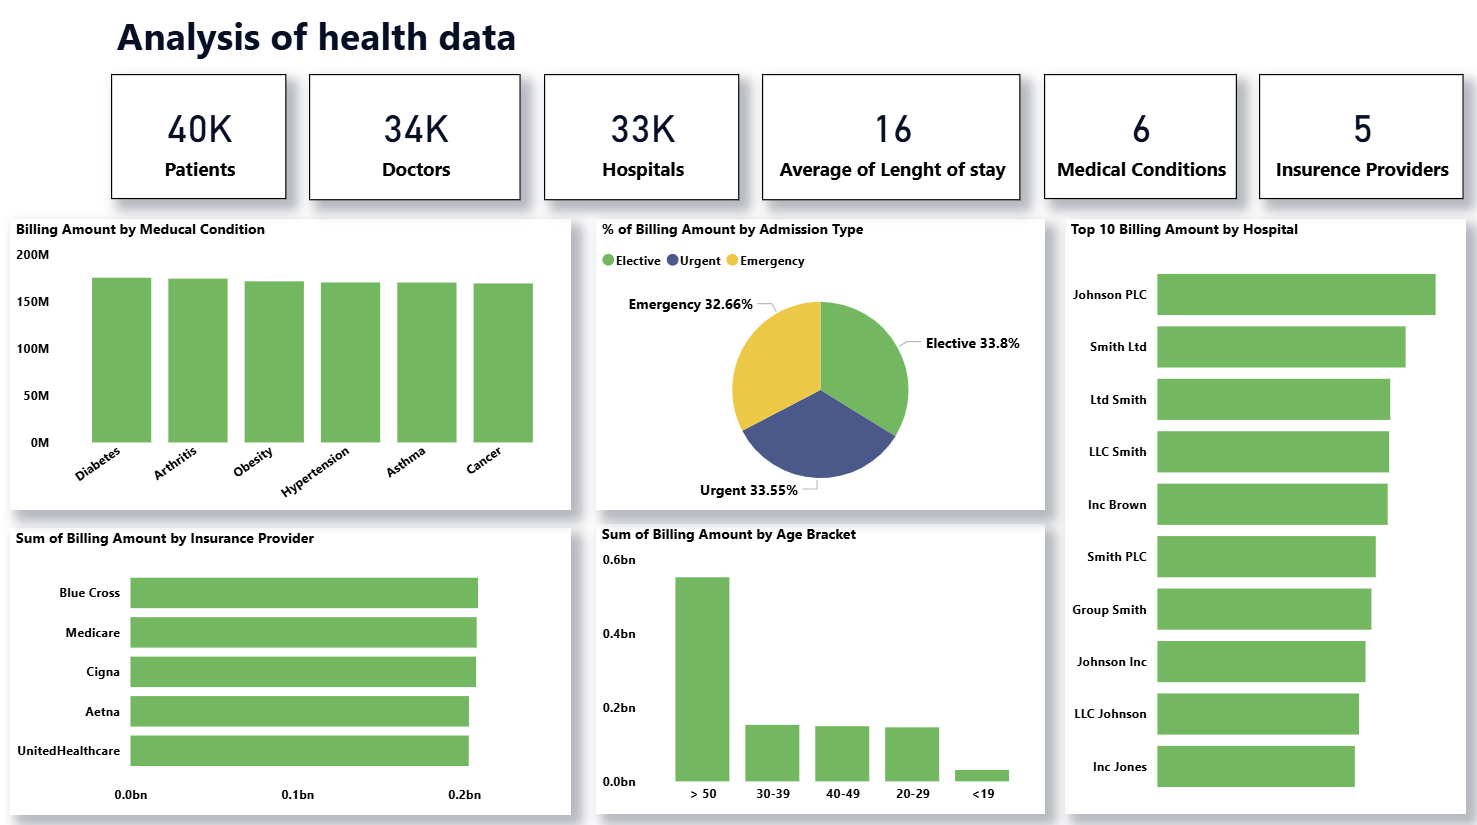

The dashboard page shown, as its layout file describes it:
{"tool":"powerbi","page":{"name":"Dashboard","canvas":[1280,720],"ordinal":0},"visuals":[{"type":"card","fields":{"Values":["healthcare_dataset.Hospitals"]},"box":[476.2,74.3,167.3,107.9],"z":0},{"type":"card","fields":{"Values":["healthcare_dataset.Patients"]},"box":[106.1,74.7,149.9,107],"z":1000},{"type":"pieChart","title":"% of Billing Amount by Admission Type","fields":{"Category":["healthcare_dataset.Admission Type"],"Y":["Sum(healthcare_dataset.Billing Amount)"]},"box":[520.6,198,383.8,249.1],"z":2000},{"type":"columnChart","title":"Billing Amount by Meducal Condition ","fields":{"Category":["healthcare_dataset.Medical Condition"],"Y":["Sum(healthcare_dataset.Billing Amount)"]},"box":[19.4,198,479.7,249.1],"z":3000},{"type":"barChart","fields":{"Category":["healthcare_dataset.Insurance Provider"],"Y":["Sum(healthcare_dataset.Billing Amount)"]},"box":[19.4,462.4,479.7,245],"z":4000},{"type":"textbox","box":[106.2,13.3,436.9,57.2],"z":5000},{"type":"card","fields":{"Values":["healthcare_dataset.Doctors"]},"box":[275.6,74.3,181,107.9],"z":6000},{"type":"card","fields":{"Values":["healthcare_dataset.Medical Conditions"]},"box":[903.9,74.7,164.6,107],"z":7000},{"type":"card","fields":{"Values":["healthcare_dataset.Insurence Providers"]},"box":[1088,74.7,174.6,107],"z":8000},{"type":"card","fields":{"Values":["Avg(healthcare_dataset.Lenght of stay)"]},"box":[663,74.3,221.3,107.9],"z":9000},{"type":"columnChart","fields":{"Y":["Sum(healthcare_dataset.Billing Amount)"],"Category":["healthcare_dataset.Age Bracket"]},"box":[520.6,459.3,383.8,248],"z":10000},{"type":"barChart","title":"Top 10 Billing Amount by Hospital","fields":{"Category":["healthcare_dataset.Hospital"],"Y":["Sum(healthcare_dataset.Billing Amount)"]},"box":[921.7,198,343,509.3],"z":11000}]}

Visuals, with their boxes in screenshot pixels (x1, y1, x2, y2), scaled from the page's 1280x720 canvas onto the 1477x825 screenshot:
card - healthcare_dataset.Hospitals: [left=549, top=85, right=743, bottom=209]
card - healthcare_dataset.Patients: [left=122, top=86, right=295, bottom=208]
"% of Billing Amount by Admission Type" pieChart: [left=601, top=227, right=1044, bottom=512]
"Billing Amount by Meducal Condition " columnChart: [left=22, top=227, right=576, bottom=512]
barChart - healthcare_dataset.Insurance Provider x Sum(healthcare_dataset.Billing Amount): [left=22, top=530, right=576, bottom=811]
textbox: [left=123, top=15, right=627, bottom=81]
card - healthcare_dataset.Doctors: [left=318, top=85, right=527, bottom=209]
card - healthcare_dataset.Medical Conditions: [left=1043, top=86, right=1233, bottom=208]
card - healthcare_dataset.Insurence Providers: [left=1255, top=86, right=1457, bottom=208]
card - Avg(healthcare_dataset.Lenght of stay): [left=765, top=85, right=1020, bottom=209]
columnChart - Sum(healthcare_dataset.Billing Amount) x healthcare_dataset.Age Bracket: [left=601, top=526, right=1044, bottom=810]
"Top 10 Billing Amount by Hospital" barChart: [left=1064, top=227, right=1459, bottom=810]
